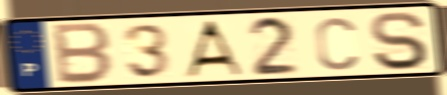2: (248, 14, 300, 77)
3: (121, 23, 173, 79)
A: (181, 18, 246, 78)
B: (52, 21, 115, 86)
C: (313, 15, 360, 72)
S: (369, 10, 431, 72)
